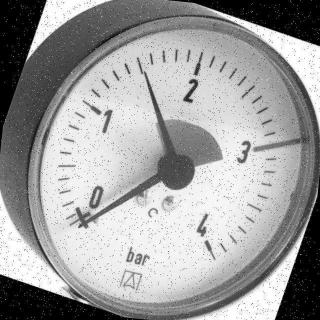gauge: (27, 0, 320, 320), (191, 224, 232, 276), (156, 151, 197, 193), (67, 199, 101, 231), (73, 216, 92, 234), (138, 67, 150, 81)
